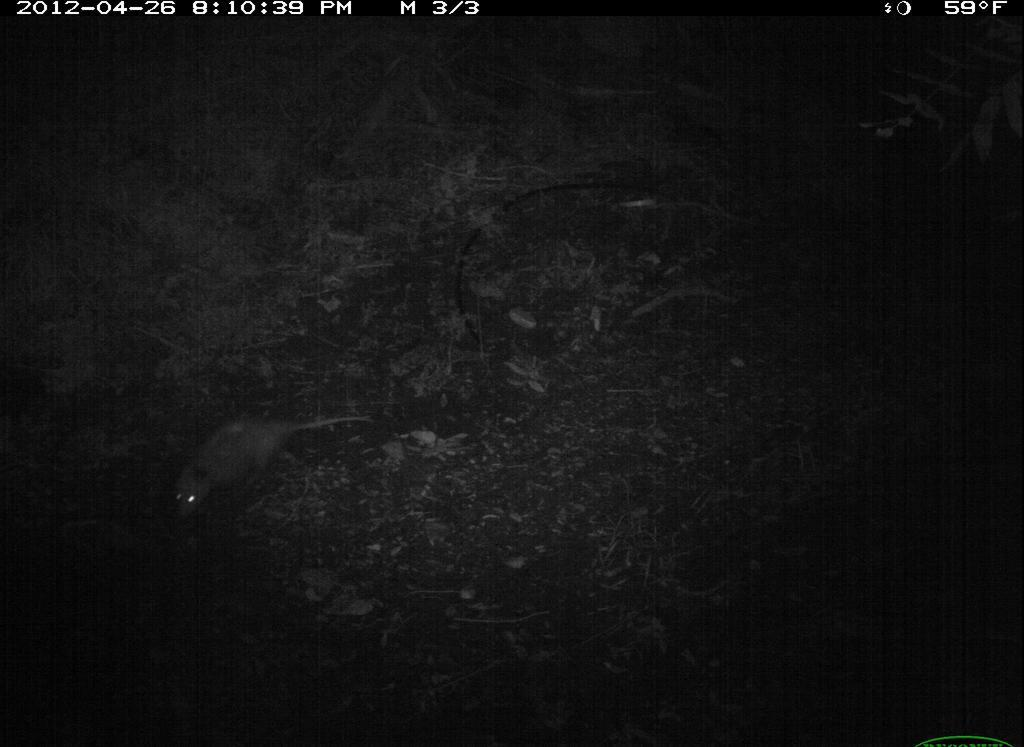opossum: (146, 406, 396, 540)
